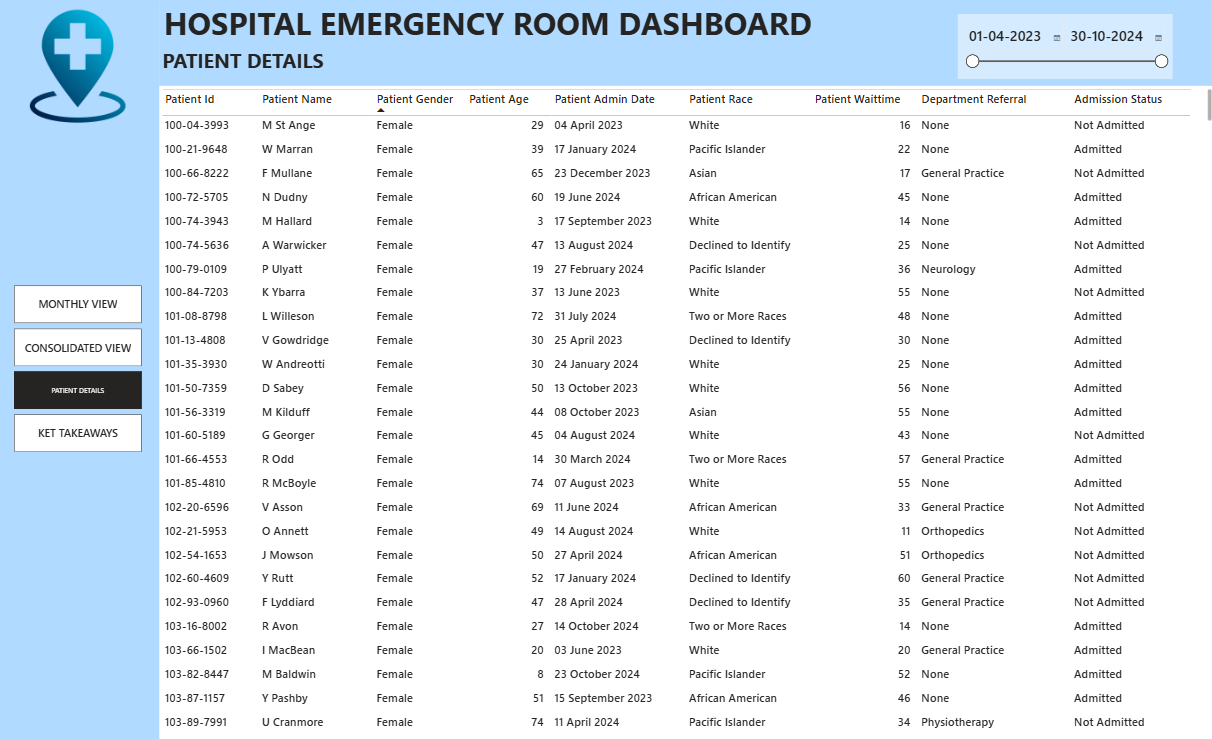

This screenshot's page, from the dashboard's own definition file:
{"tool":"powerbi","page":{"name":"PATIENT DETAILS","canvas":[2300,1400],"ordinal":2},"visuals":[{"type":"shape","box":[0,0,308.6,1401.1],"z":0},{"type":"shape","box":[308.6,0,1993,163.7],"z":1000},{"type":"textbox","box":[310,0,1550,106.7],"z":2000},{"type":"textbox","box":[308.6,85,418.8,69.3],"z":3000},{"type":"image","box":[31.5,18.9,245.6,214.1],"z":4000},{"type":"slicer","fields":{"Values":["Date Table.Date"]},"box":[1813.5,28.3,406.2,122.8],"z":5000},{"type":"tableEx","fields":{"Values":["Hospital ER_Data.Patient Id","Hospital ER_Data.Patient Full Name","Hospital ER_Data.Patient Gender","Sum(Hospital ER_Data.Patient Age)","Hospital ER_Data.Patient Admin Date","Hospital ER_Data.Patient Race","Sum(Hospital ER_Data.Patient Waittime)","Hospital ER_Data.Department Referral","Hospital ER_Data.Admission States"]},"box":[309,163,1991,1237],"z":6000},{"type":"pageNavigator","box":[33.3,541.7,241.7,316.7],"z":7000}]}

Visuals, with their boxes in screenshot pixels (x1, y1, x2, y2), scaled from the page's 2300x1400 canvas onto the 1212x739 screenshot:
shape: left=0, top=0, right=163, bottom=738
shape: left=163, top=0, right=1211, bottom=86
textbox: left=163, top=0, right=980, bottom=56
textbox: left=163, top=45, right=383, bottom=81
image: left=17, top=10, right=146, bottom=123
slicer - Date Table.Date: left=956, top=15, right=1170, bottom=80
tableEx - Hospital ER_Data.Patient Id x Hospital ER_Data.Patient Full Name: left=163, top=86, right=1211, bottom=738
pageNavigator: left=18, top=286, right=145, bottom=453
